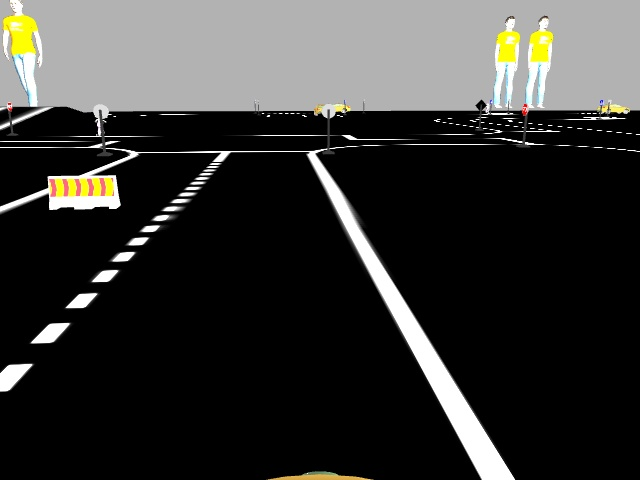ClosedRoadStand: (46, 176, 118, 208)
